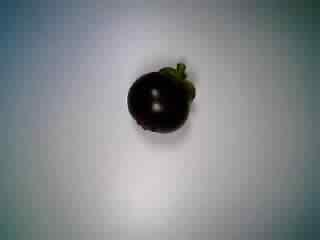mangosteen: (116, 55, 201, 139)
